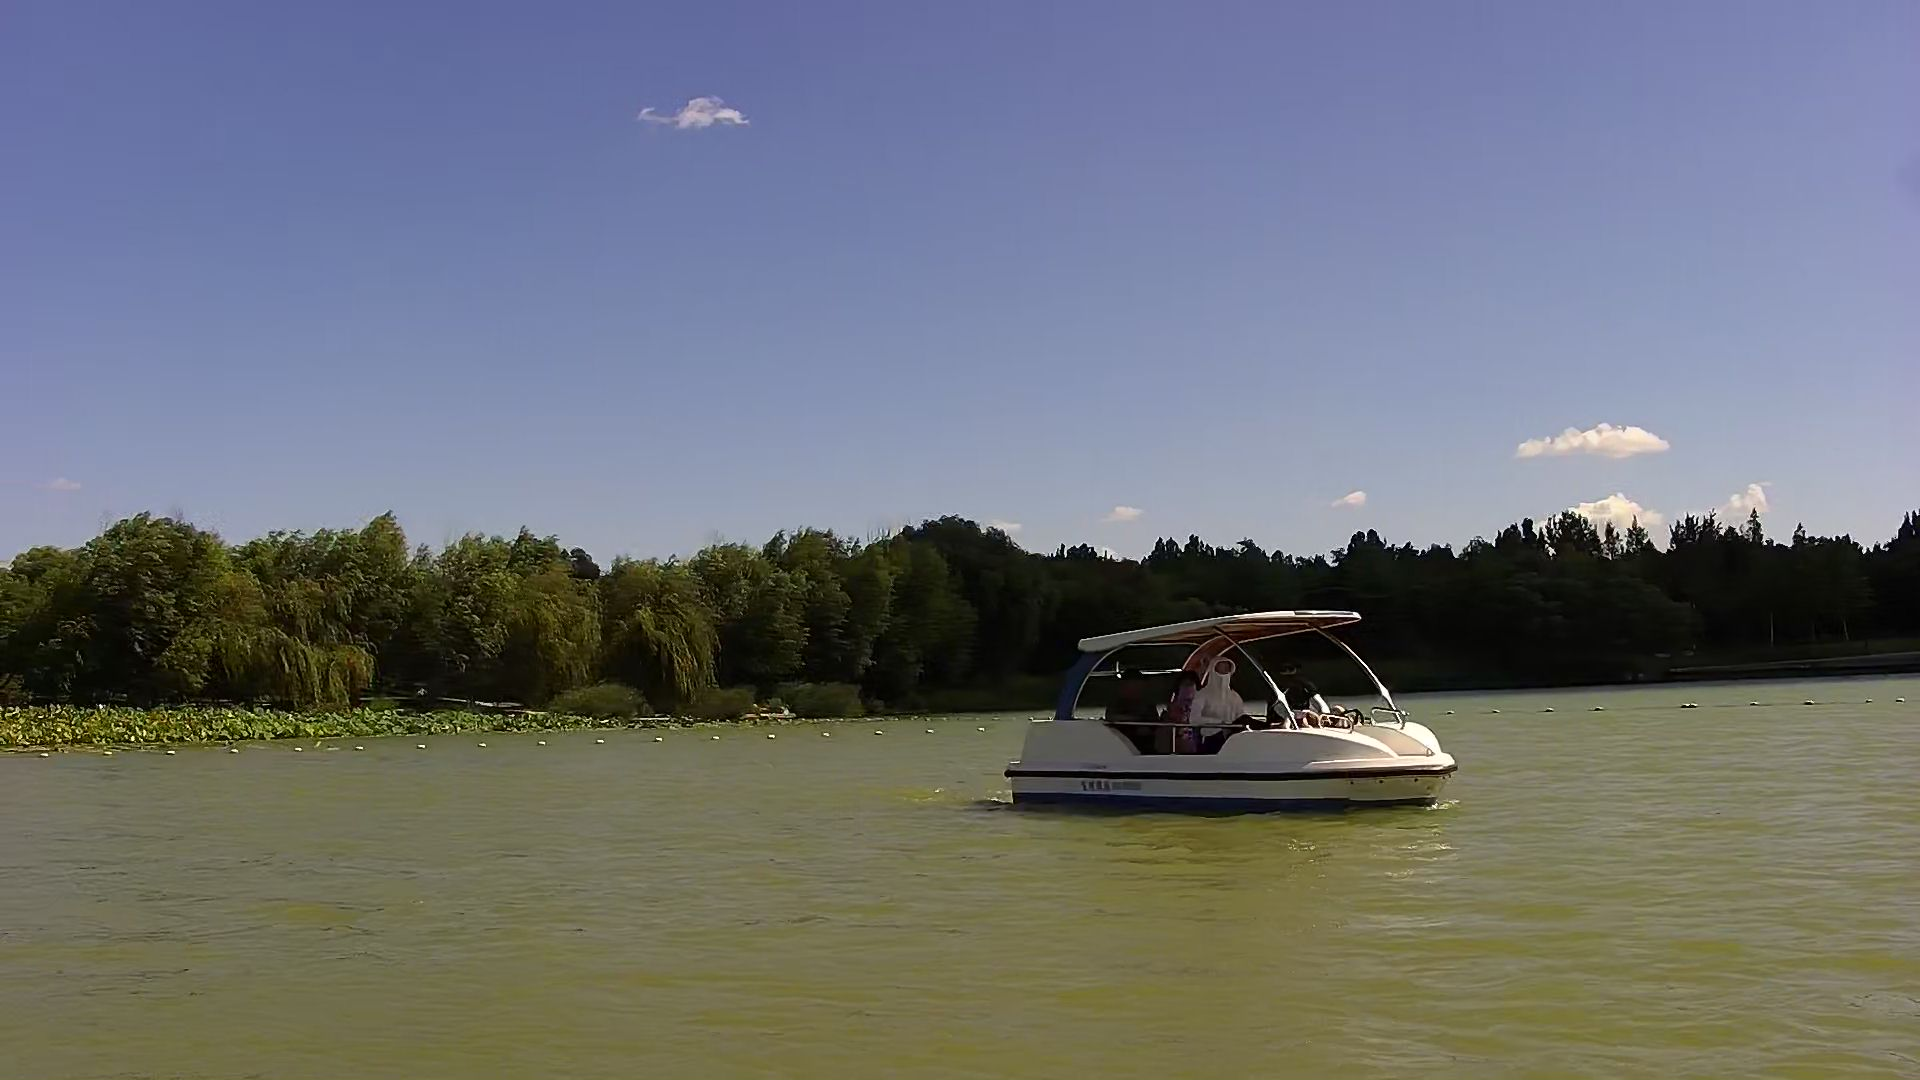boat: (1001, 599, 1469, 823)
